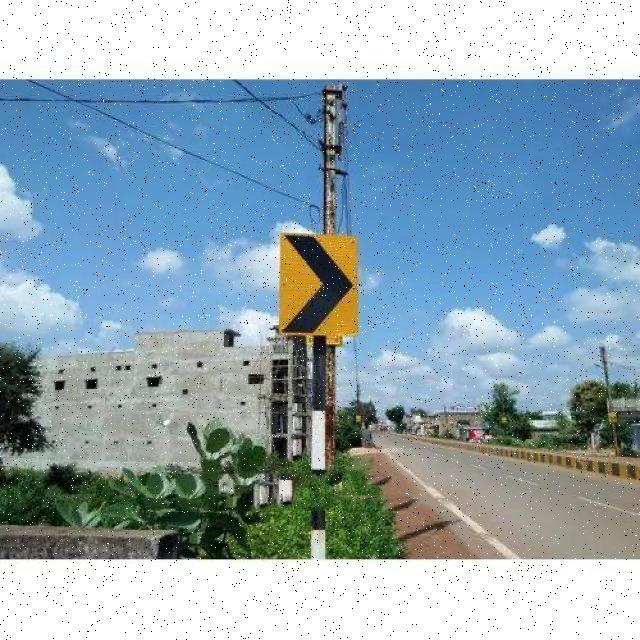chevron_right: (277, 237, 359, 336)
